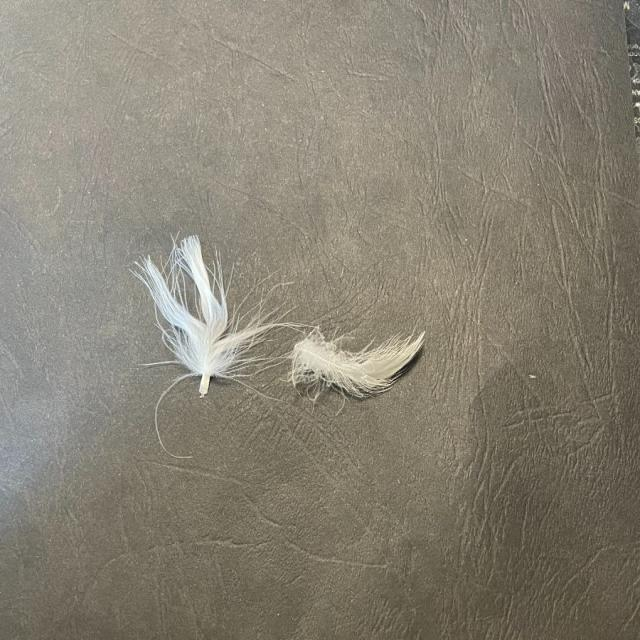feather: (134, 228, 280, 391), (286, 325, 428, 400)
